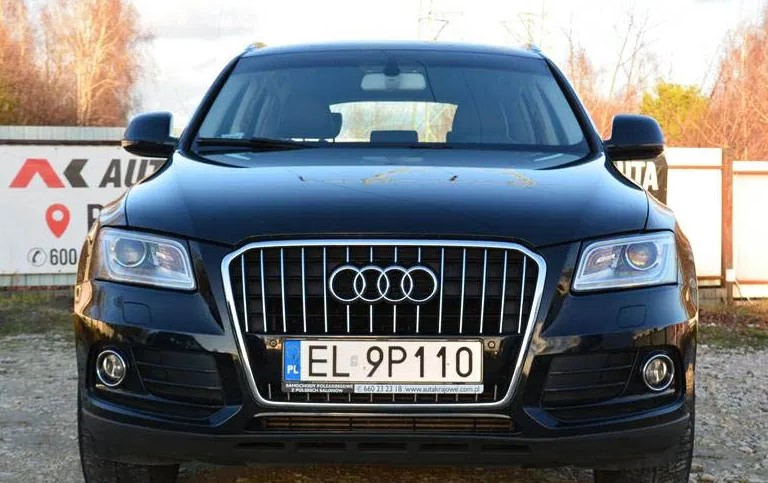number_plate: (276, 330, 494, 403)
